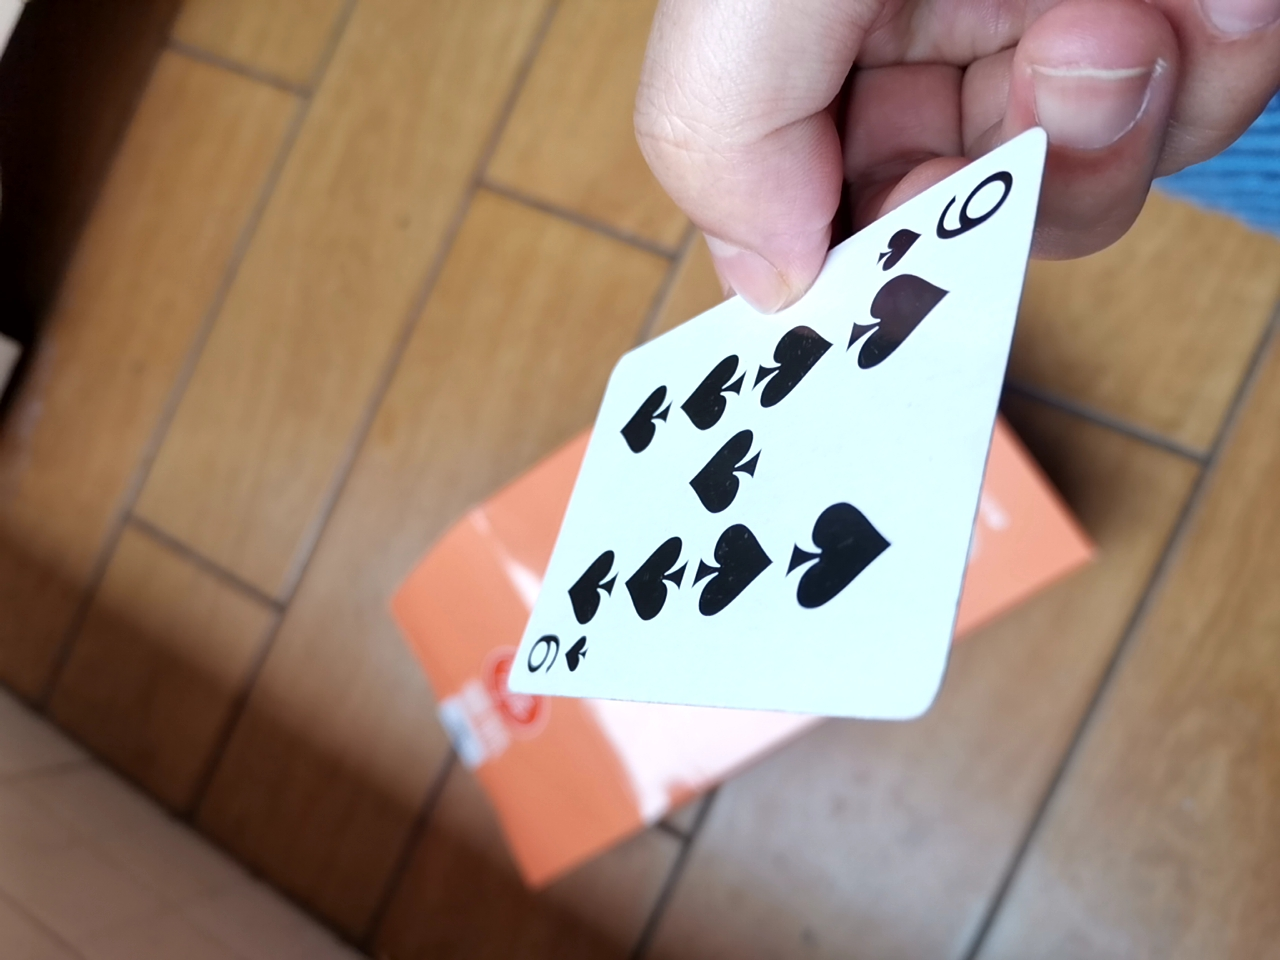ht 9: (495, 138, 1022, 799)
